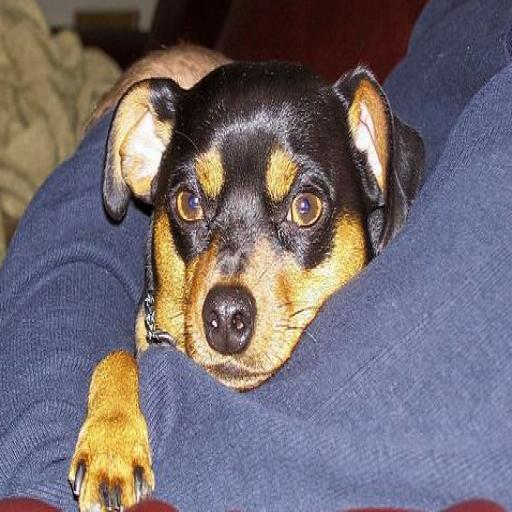dog_face: (111, 59, 389, 387)
